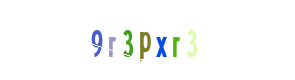3: (104, 0, 184, 80), (141, 0, 221, 80)
9: (64, 0, 144, 80)
P: (107, 0, 187, 80)
R: (74, 0, 154, 80), (121, 0, 201, 80)
X: (110, 0, 190, 80)
